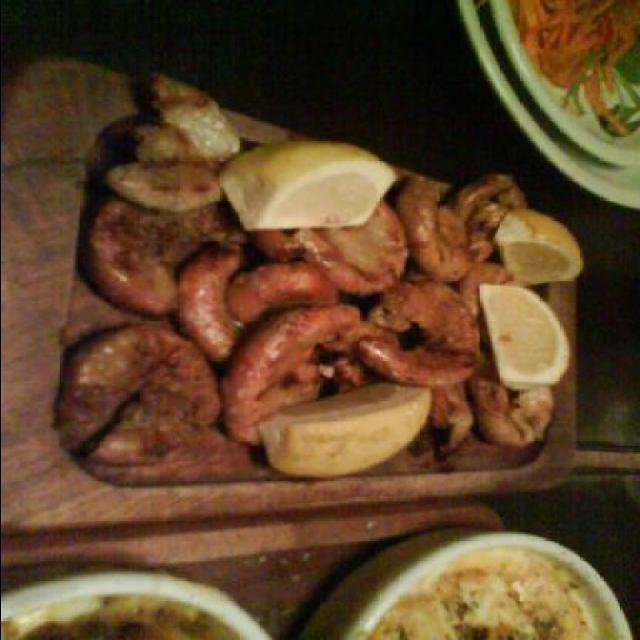Lemon: (252, 374, 436, 496), (215, 135, 398, 239), (482, 293, 574, 398)
Steak: (54, 129, 550, 513)
